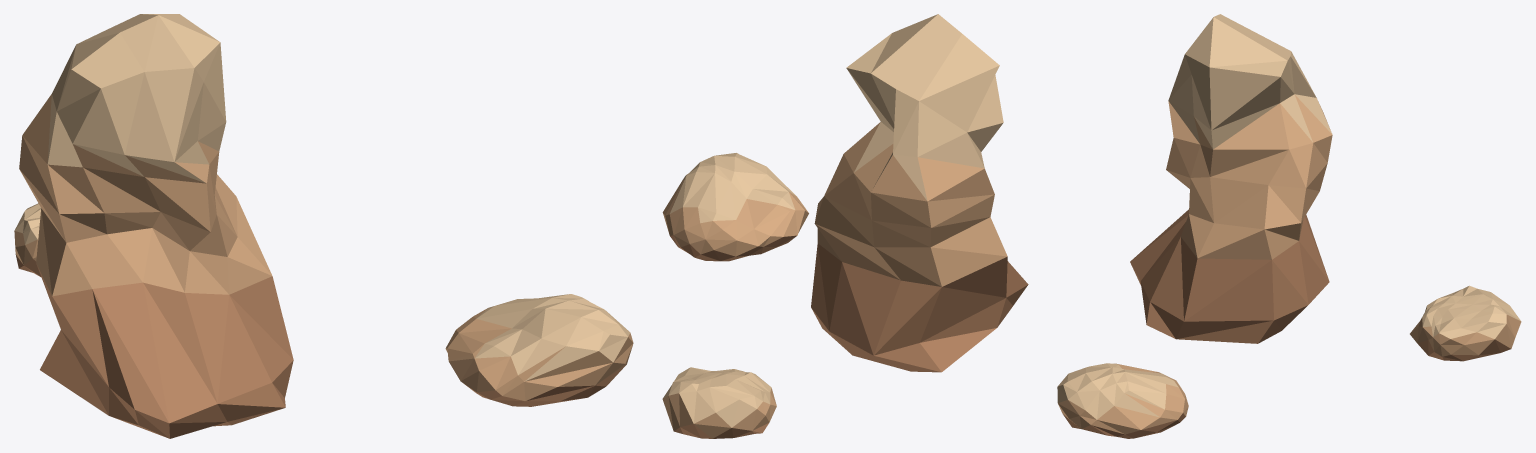
Rendered from canyon-0-0.glb.
The picture shows the model from 3 angles, left to right: view 1: azimuth 30°, elevation 25°; view 2: azimuth 150°, elevation 25°; view 3: azimuth 270°, elevation 25°; orthographic projection. The views are drawn at different scales.
Visible parts, largest first — view 1: canyon-0-0; view 2: canyon-0-0; view 3: canyon-0-0.
Boxes of the visible parts, left/top/right/bottom form: canyon-0-0: left=14, top=14, right=633, bottom=438; canyon-0-0: left=662, top=14, right=1028, bottom=438; canyon-0-0: left=1057, top=14, right=1521, bottom=438.
Bounding box in the file's own units: 23.88 × 19 × 26.94.
